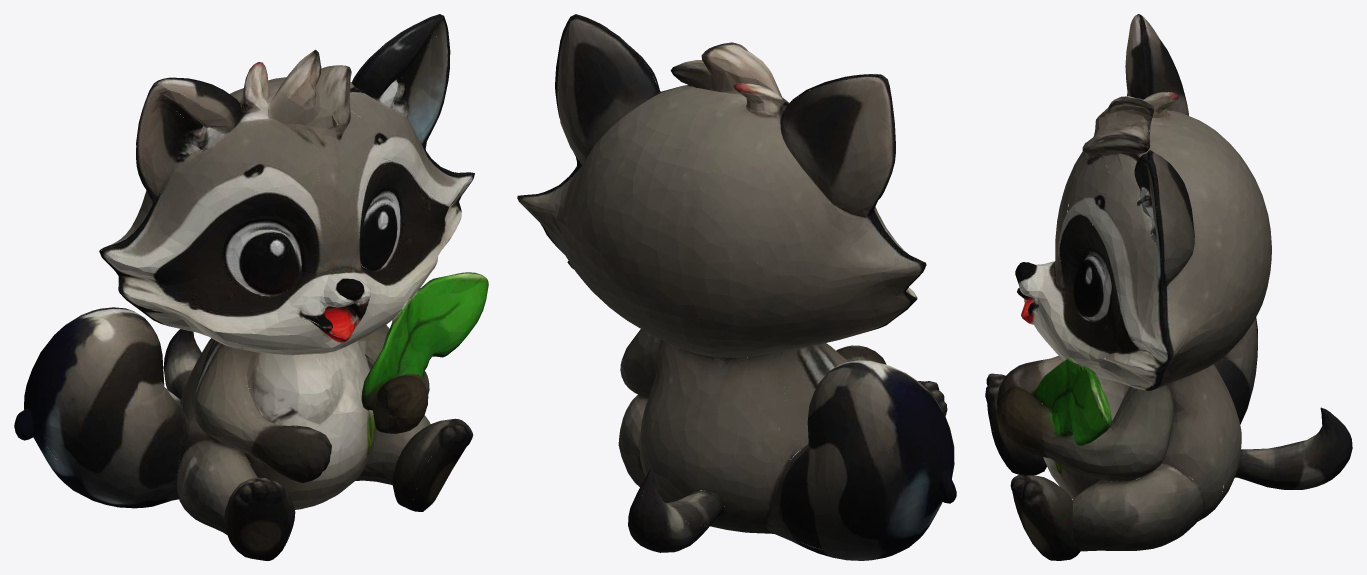
Rendered from char-Riff.glb.
3 views of the same model, side by side, from view 1: azimuth 30°, elevation 25°; view 2: azimuth 150°, elevation 25°; view 3: azimuth 270°, elevation 25° (orthographic). The views are drawn at different scales.
Visible parts, largest first — view 1: geometry_0.022; view 2: geometry_0.022; view 3: geometry_0.022.
Part boxes in pixels (x1,y1,x2,y2): geometry_0.022: (14, 14, 488, 560); geometry_0.022: (517, 14, 956, 560); geometry_0.022: (985, 14, 1352, 560).
Bounding box in the file's own units: 1 × 0.9805 × 0.7391.
Materials: 1 (1 with a texture image).
